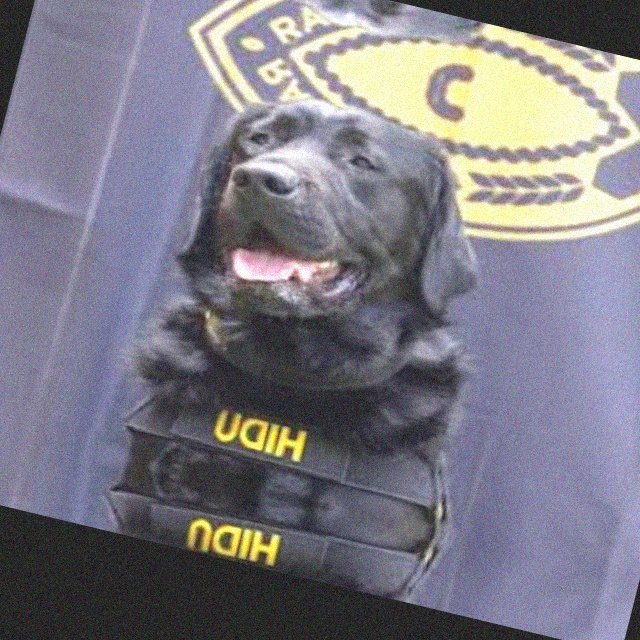dog: (125, 72, 527, 532), (107, 459, 430, 604), (240, 0, 554, 78)
